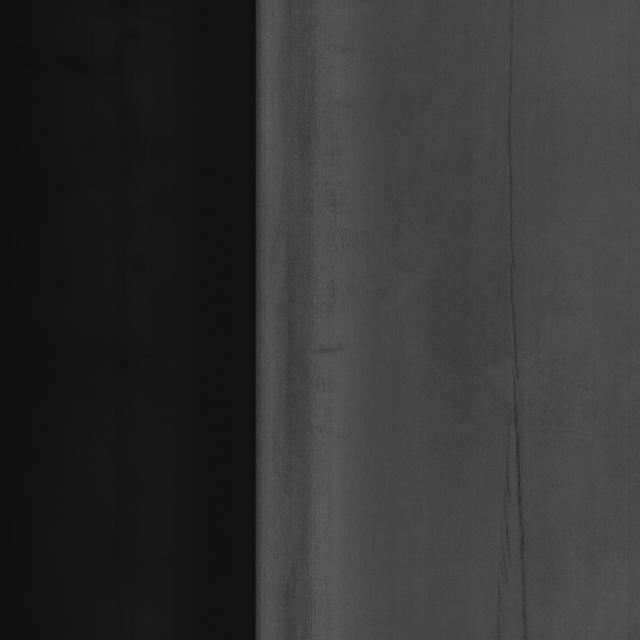oil_spot: (491, 14, 532, 638)
